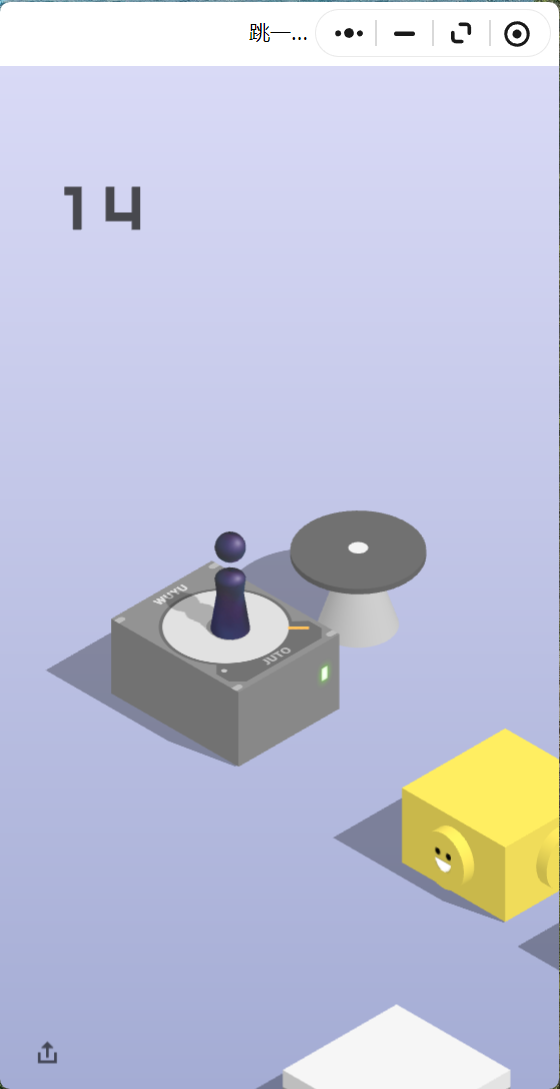piece: (215, 532, 246, 636)
target: (291, 509, 427, 588)
